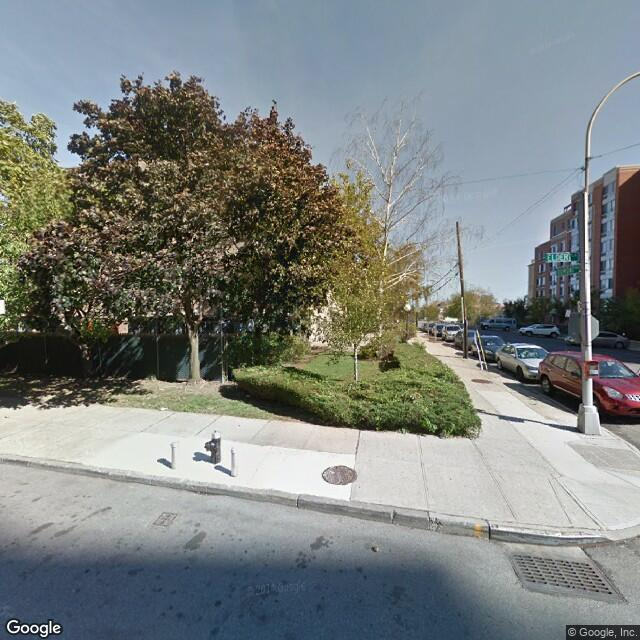litter: (160, 405, 172, 412), (370, 545, 380, 553)
